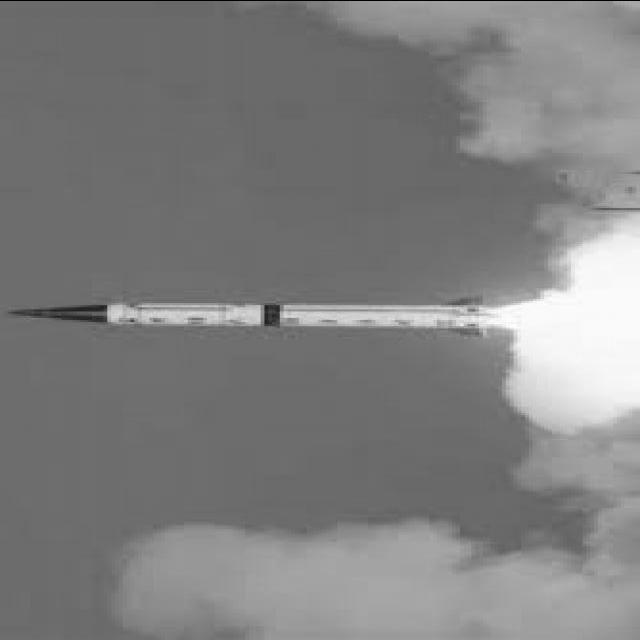Missile: (0, 294, 525, 338)
